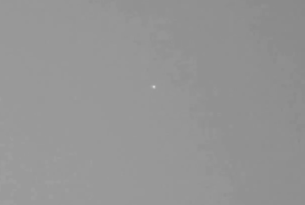Target: (153, 86, 155, 89)
